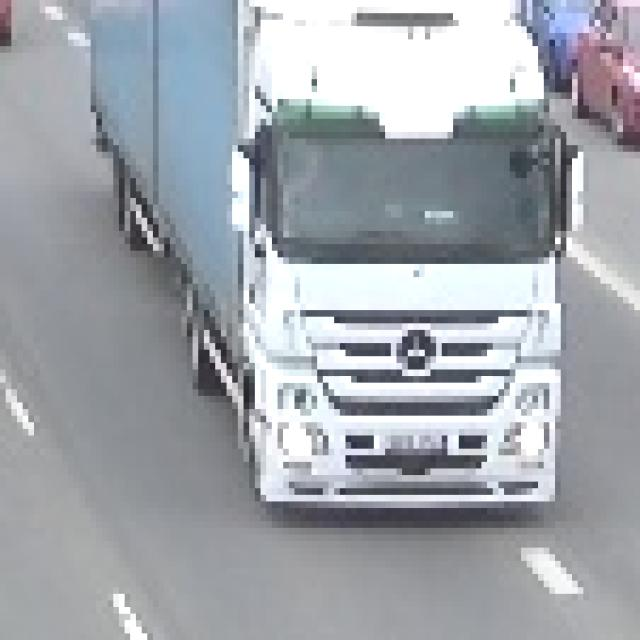TRUCK: (95, 0, 575, 519)
